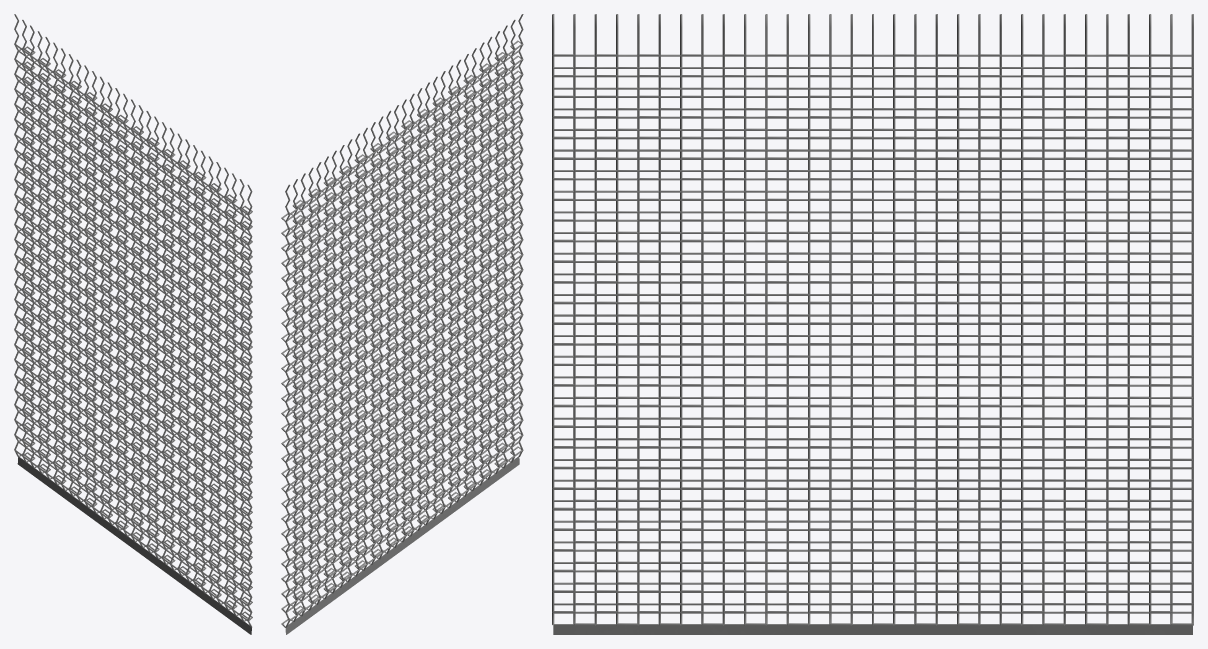
The model's file is SM_Shutter_02.fbx.
3 renders of one model, left to right at view 1: azimuth 30°, elevation 25°; view 2: azimuth 150°, elevation 25°; view 3: azimuth 270°, elevation 25°, orthographic. The views are drawn at different scales.
Visible parts, largest first — view 1: SM_Shutter_02_LOD0; view 2: SM_Shutter_02_LOD0; view 3: SM_Shutter_02_LOD0.
Part boxes in pixels (bbox=[...]): SM_Shutter_02_LOD0: bbox=[14, 14, 252, 634]; SM_Shutter_02_LOD0: bbox=[281, 14, 523, 634]; SM_Shutter_02_LOD0: bbox=[552, 14, 1193, 634].
Bounding box in the file's own units: 6.65 × 301 × 320.
